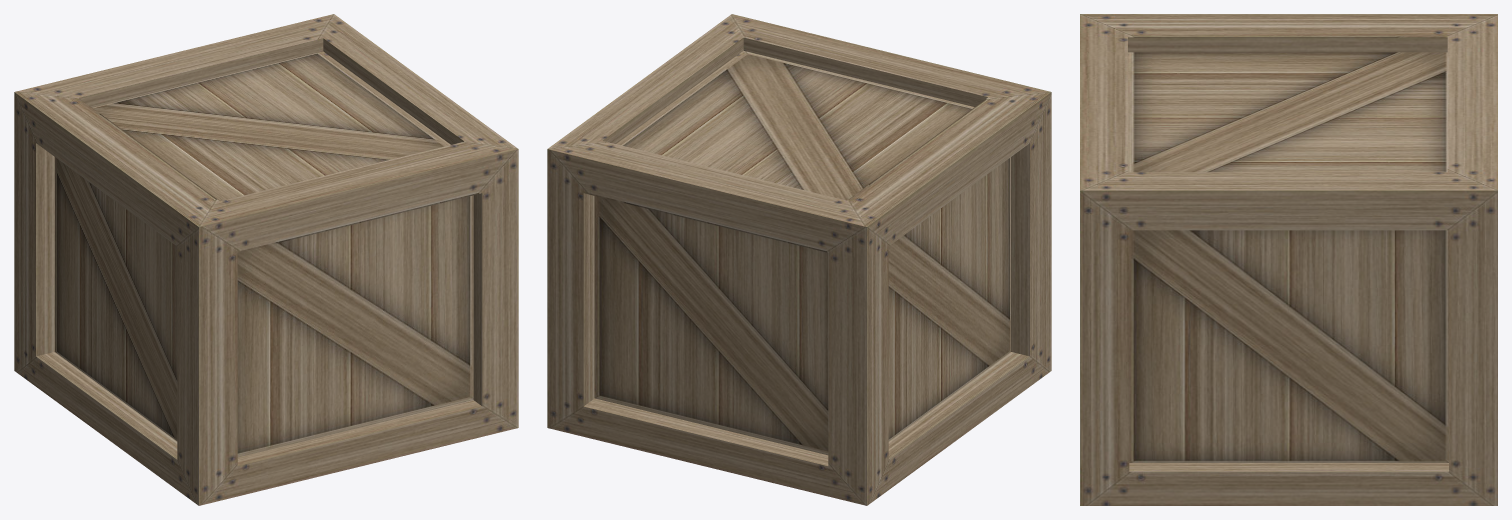
File: crate.FBX
3 renders of one model, left to right at view 1: azimuth 30°, elevation 25°; view 2: azimuth 150°, elevation 25°; view 3: azimuth 270°, elevation 25°, orthographic. The views are drawn at different scales.
Visible parts, largest first — view 1: Box006; view 2: Box006; view 3: Box006.
Part boxes in pixels (bbox=[...]): Box006: bbox=[14, 14, 518, 505]; Box006: bbox=[547, 14, 1051, 505]; Box006: bbox=[1080, 14, 1497, 505].
Bounding box in the file's own units: 60 × 50 × 60.
Materials: 1 (1 with a texture image).
